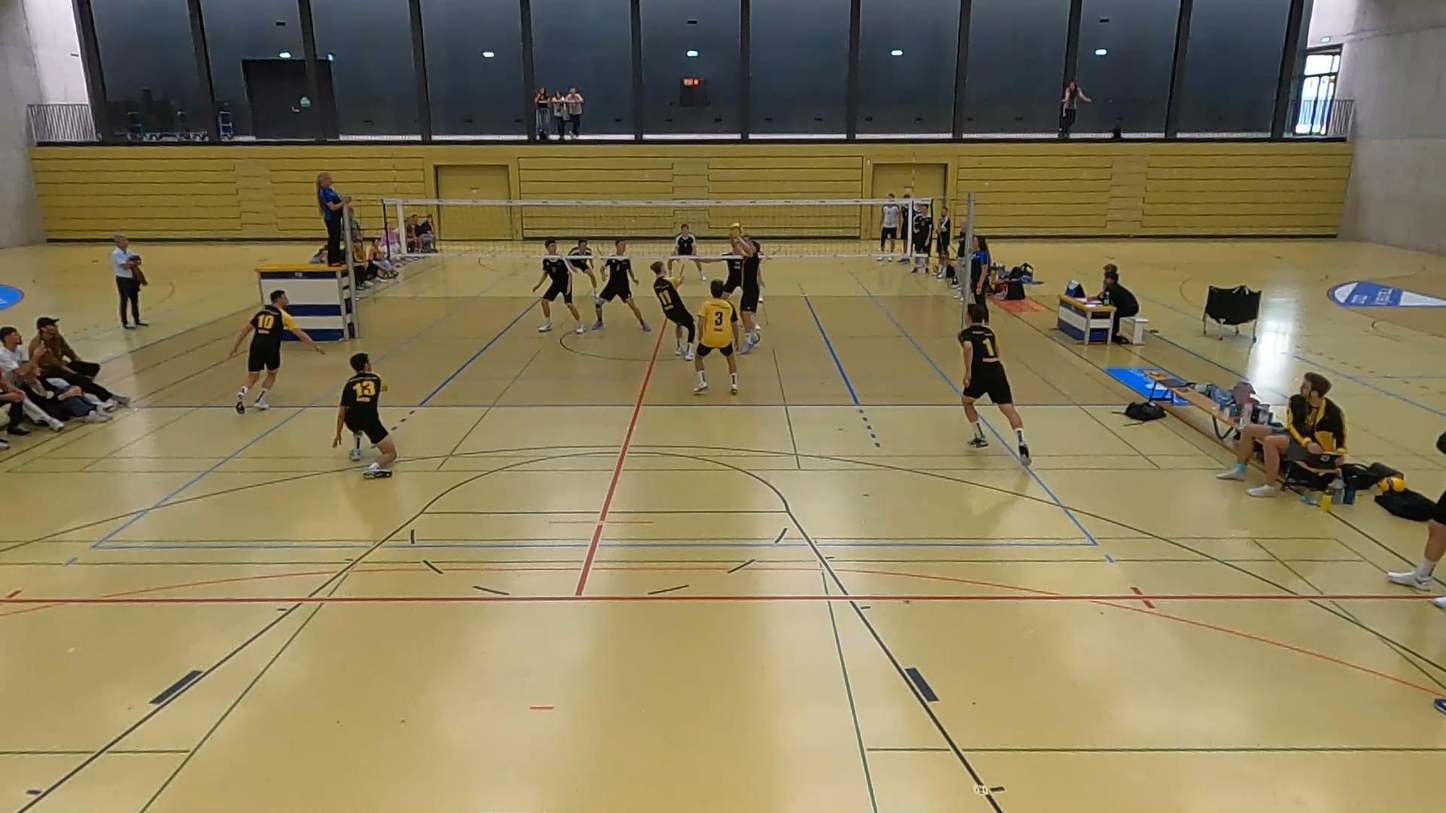alzata: (723, 225, 783, 351)
